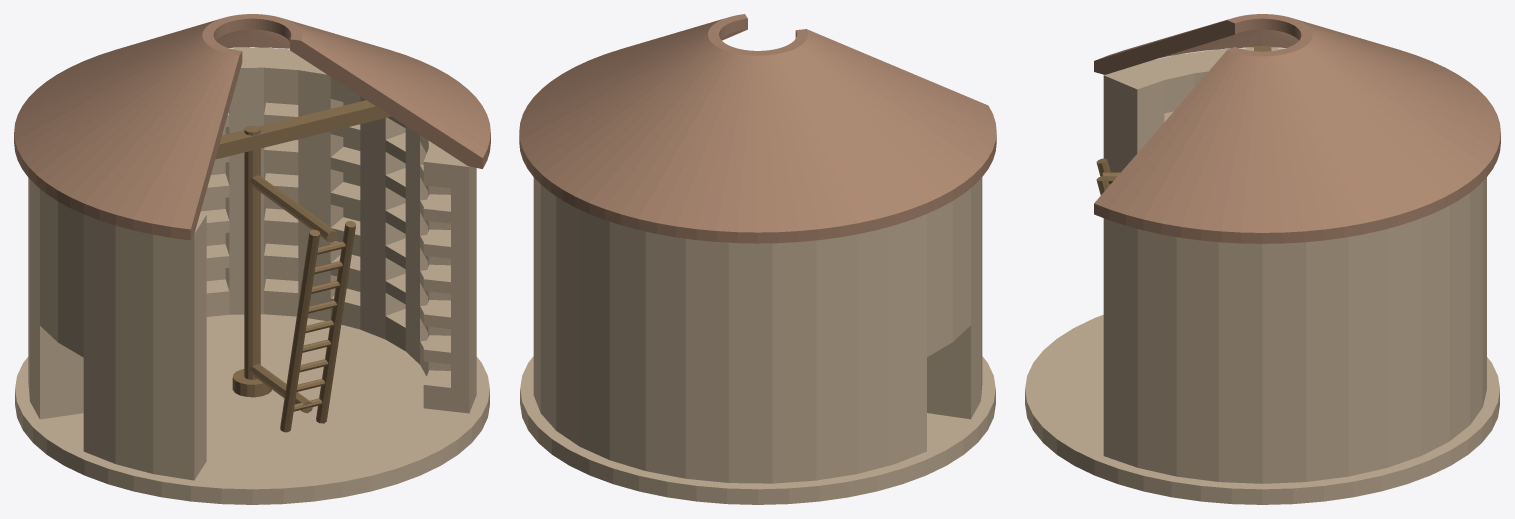
The picture shows the model from 3 angles, left to right: view 1: azimuth 30°, elevation 25°; view 2: azimuth 150°, elevation 25°; view 3: azimuth 270°, elevation 25°; orthographic projection.
Visible parts, largest first — view 1: WholeCurvedBlindNicheWallAndGroundDoorway, WholeCutawayTaperedRoofAndOpenTopThroat, WholeCircularFoundationAndInteriorFloor, WholeCentreVerticalAxle, WholeUpperBearingCrossbeam, WholeInclinedLadderStile-0.24, WholeInclinedLadderStile0.24, WholeRadialBearingArm2.89, WholeRadialBearingArm0.48, WholeCentreAxleFoot; view 2: WholeCurvedBlindNicheWallAndGroundDoorway, WholeCutawayTaperedRoofAndOpenTopThroat, WholeCircularFoundationAndInteriorFloor; view 3: WholeCurvedBlindNicheWallAndGroundDoorway, WholeCutawayTaperedRoofAndOpenTopThroat, WholeCircularFoundationAndInteriorFloor.
Boxes of the visible parts, box(x1,y1,x2,y2) form: WholeCurvedBlindNicheWallAndGroundDoorway: box(28, 47, 476, 480); WholeCutawayTaperedRoofAndOpenTopThroat: box(14, 14, 490, 240); WholeCircularFoundationAndInteriorFloor: box(15, 314, 489, 504); WholeCentreVerticalAxle: box(244, 125, 260, 379); WholeUpperBearingCrossbeam: box(215, 100, 391, 159); WholeInclinedLadderStile-0.24: box(280, 229, 320, 432); WholeInclinedLadderStile0.24: box(316, 221, 355, 423); WholeRadialBearingArm2.89: box(249, 175, 337, 242); WholeRadialBearingArm0.48: box(249, 364, 312, 413); WholeCentreAxleFoot: box(232, 369, 271, 397); WholeCurvedBlindNicheWallAndGroundDoorway: box(533, 177, 982, 483); WholeCutawayTaperedRoofAndOpenTopThroat: box(519, 14, 996, 243); WholeCircularFoundationAndInteriorFloor: box(520, 356, 995, 504); WholeCurvedBlindNicheWallAndGroundDoorway: box(1103, 48, 1486, 483); WholeCutawayTaperedRoofAndOpenTopThroat: box(1094, 14, 1500, 243); WholeCircularFoundationAndInteriorFloor: box(1025, 314, 1499, 504).
Bounding box in the file's own units: 5.52 × 4.72 × 5.51.
